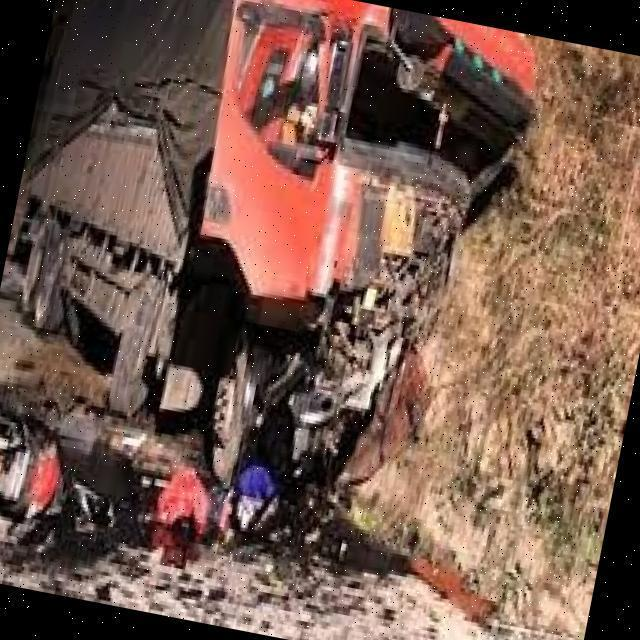accident: (123, 0, 586, 596)
